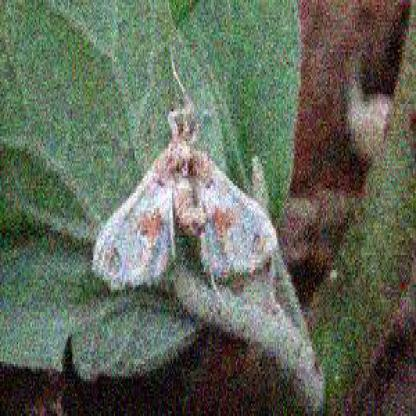leucinodes: (90, 114, 277, 292)
